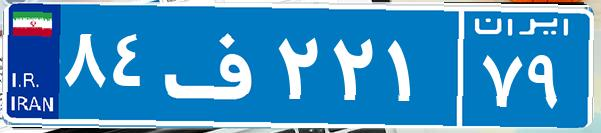1: (385, 28, 445, 110)
2: (273, 28, 330, 110), (330, 28, 385, 110)
4: (110, 28, 158, 105)
7: (475, 38, 525, 113)
8: (57, 26, 110, 107)
9: (525, 38, 570, 115)
ف: (158, 15, 273, 115)
